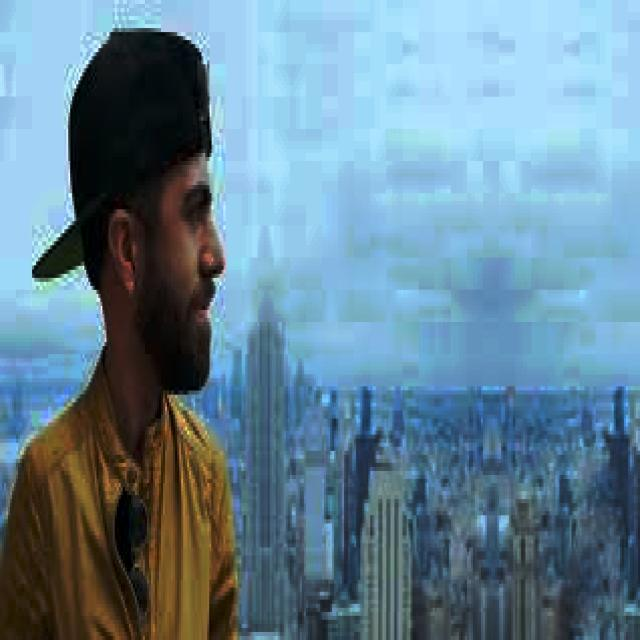TOPI: (26, 12, 213, 282)
